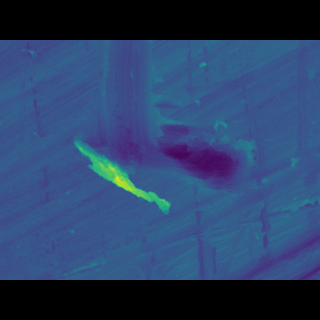Loch: (67, 117, 270, 194)
